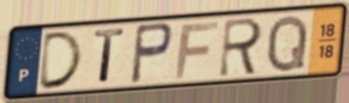D: (36, 29, 86, 92)
F: (173, 19, 222, 81)
P: (128, 21, 175, 86)
Q: (264, 12, 310, 75)
R: (216, 15, 266, 80)
T: (93, 27, 127, 86)
